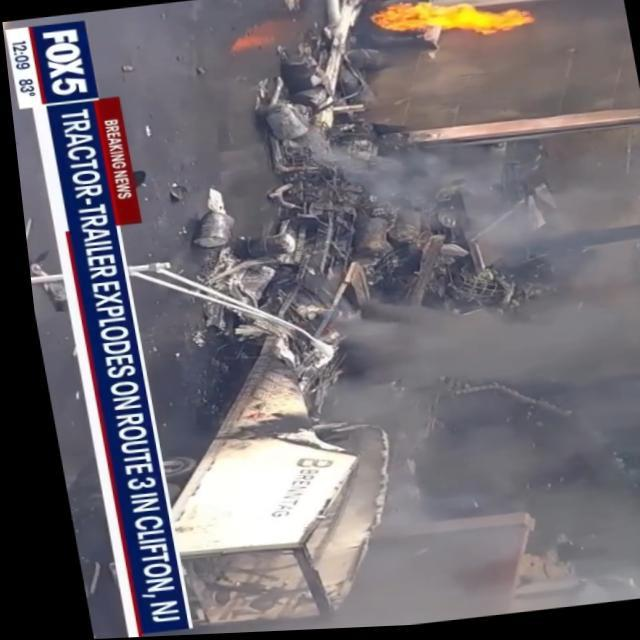fire: (364, 0, 548, 56)
